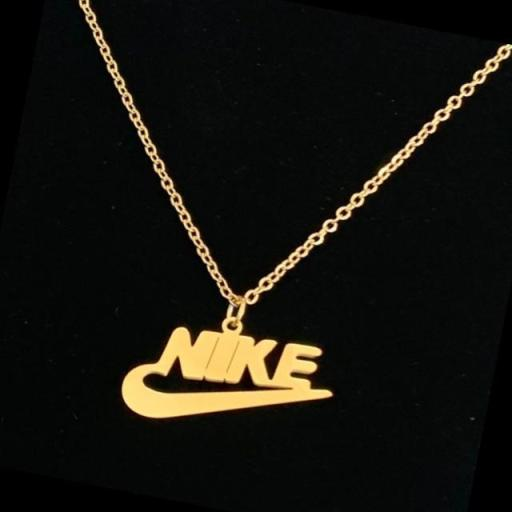Nike: (158, 314, 319, 404)
